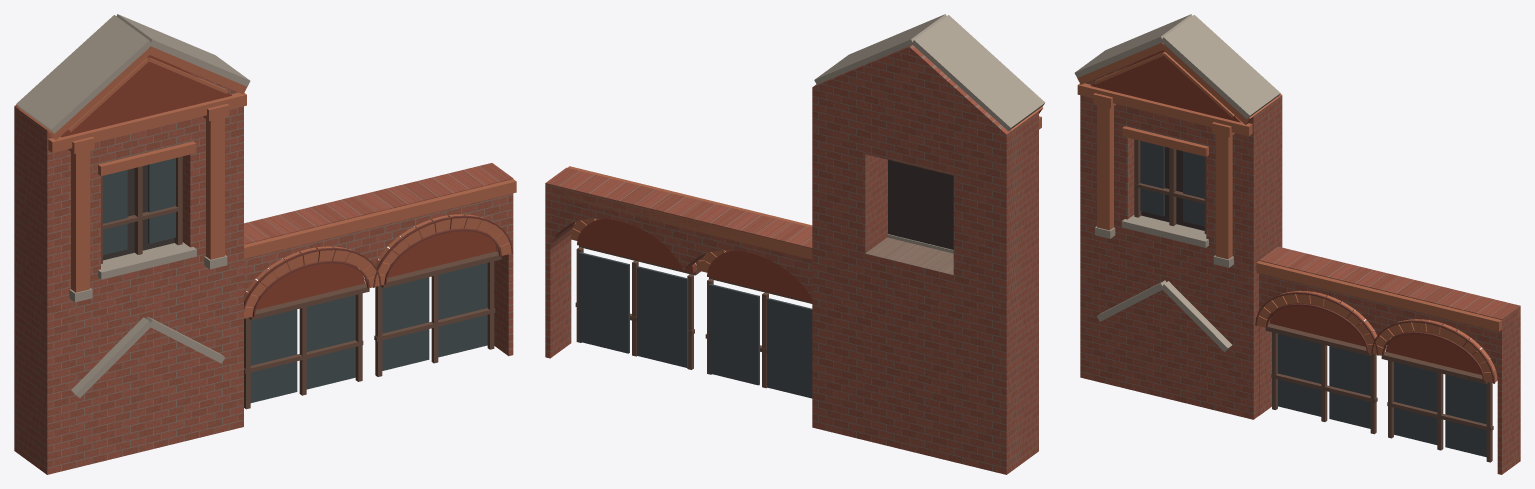
The model's file is jingan-wujin-580-pediment-and-paired-window-heads-lod.glb.
3 views of the same model, side by side, from view 1: azimuth 30°, elevation 25°; view 2: azimuth 150°, elevation 25°; view 3: azimuth 330°, elevation 25° (orthographic). The views are drawn at different scales.
Visible parts, largest first — view 1: 武进路580号住宅临街小山花窗与双券窗楣; view 2: 武进路580号住宅临街小山花窗与双券窗楣; view 3: 武进路580号住宅临街小山花窗与双券窗楣.
Part boxes in pixels (<box>): 武进路580号住宅临街小山花窗与双券窗楣: <box>14,14,516,474</box>; 武进路580号住宅临街小山花窗与双券窗楣: <box>545,14,1045,474</box>; 武进路580号住宅临街小山花窗与双券窗楣: <box>1074,14,1520,474</box>.
Bounding box in the file's own units: 6.26 × 5.23 × 0.891.
Materials: 8 (1 with a texture image).
